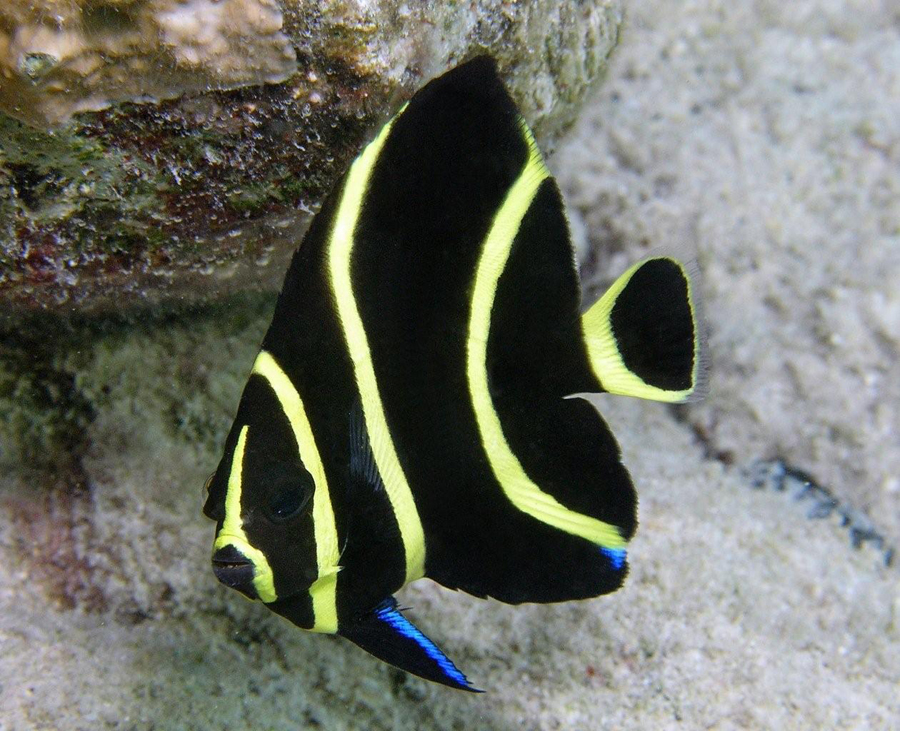Pomacanthus_paru: (183, 38, 725, 708)
